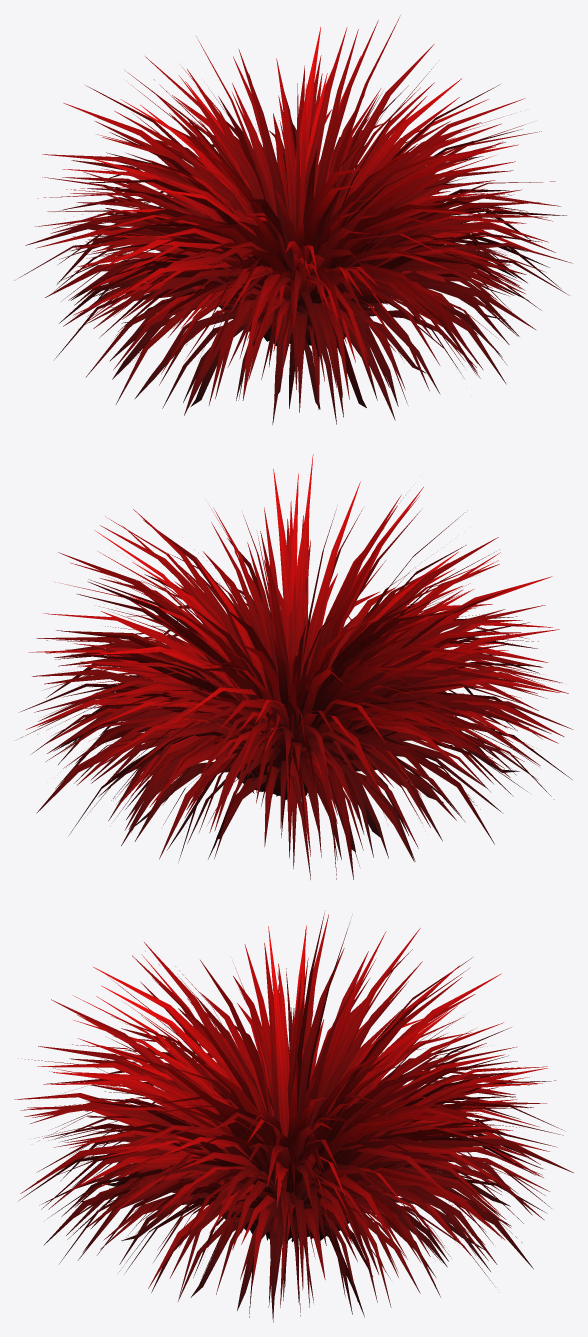
Rendered from alpine_tussock_v02.glb.
3 renders of one model, top to bottom at view 1: azimuth 30°, elevation 25°; view 2: azimuth 150°, elevation 25°; view 3: azimuth 270°, elevation 25°, orthographic.
Parts seen in each view (by area): view 1: alpine_tussock_v02; view 2: alpine_tussock_v02; view 3: alpine_tussock_v02.
Boxes of the visible parts, x1,y1,x2,y2 form: alpine_tussock_v02: (14,15,572,424); alpine_tussock_v02: (19,454,573,879); alpine_tussock_v02: (14,910,573,1322).
Bounding box in the file's own units: 0.6397 × 0.3093 × 0.633.
Materials: 1 (1 with a texture image).
